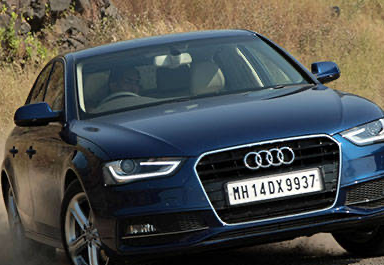MH14DX9937: (226, 168, 322, 205)
